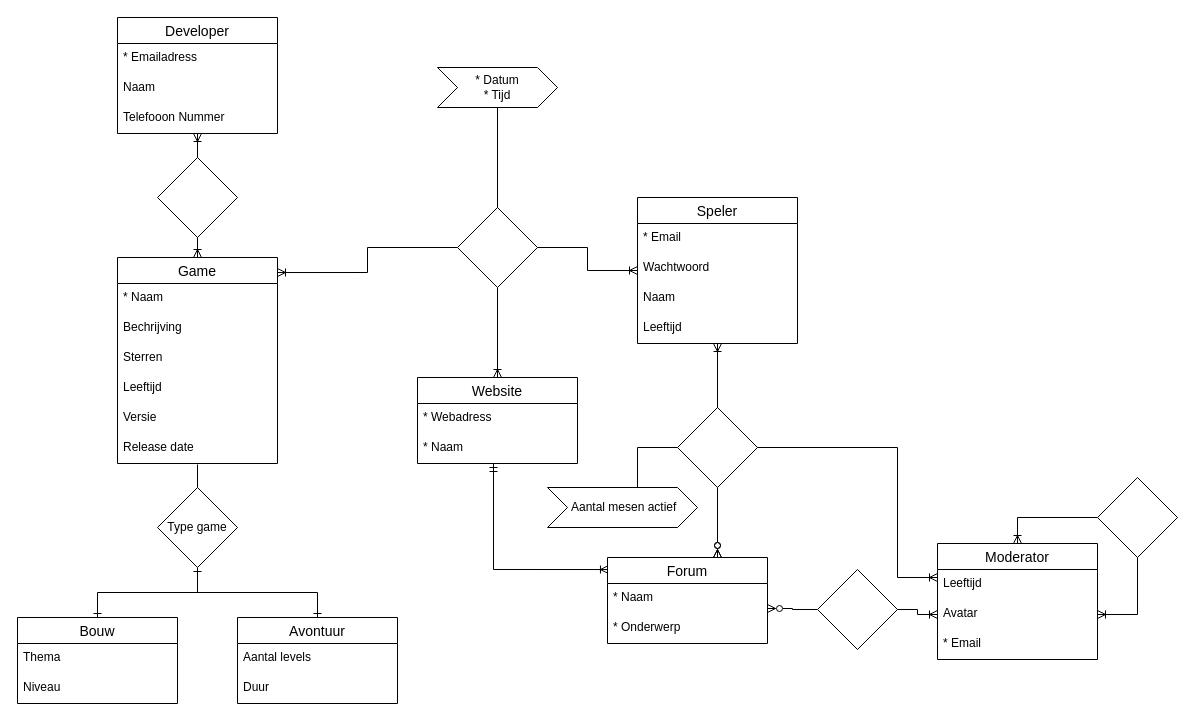
Some shapes in this 1195 by 724 pixel diagram are drawn without their labels. Each missing label, with the centre of its shape:
"Backup" belongs at pixel 1137 517.
"Creëert" belongs at pixel 197 197.
"Moderates" belongs at pixel 857 609.
"Op forum" belongs at pixel 717 447.
"Speelt op" belongs at pixel 497 247.
